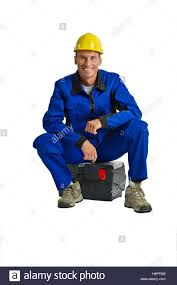Person_wearing_helmet: (67, 27, 107, 57)
